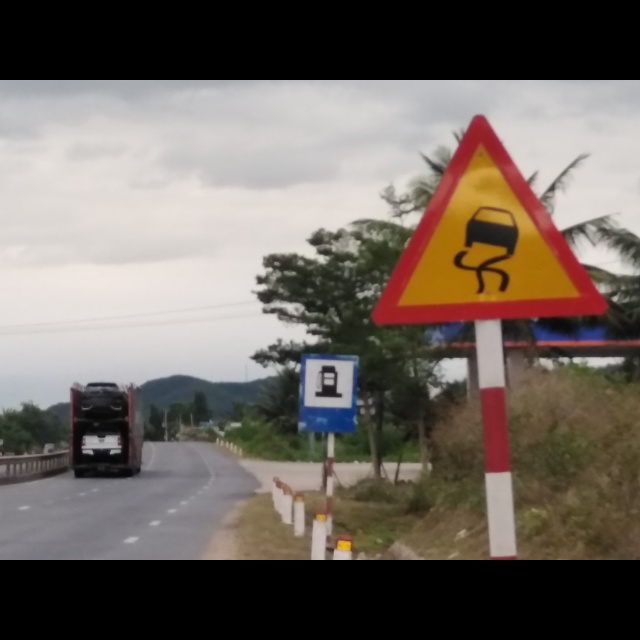Đường trơn trượt: (359, 113, 607, 328)
